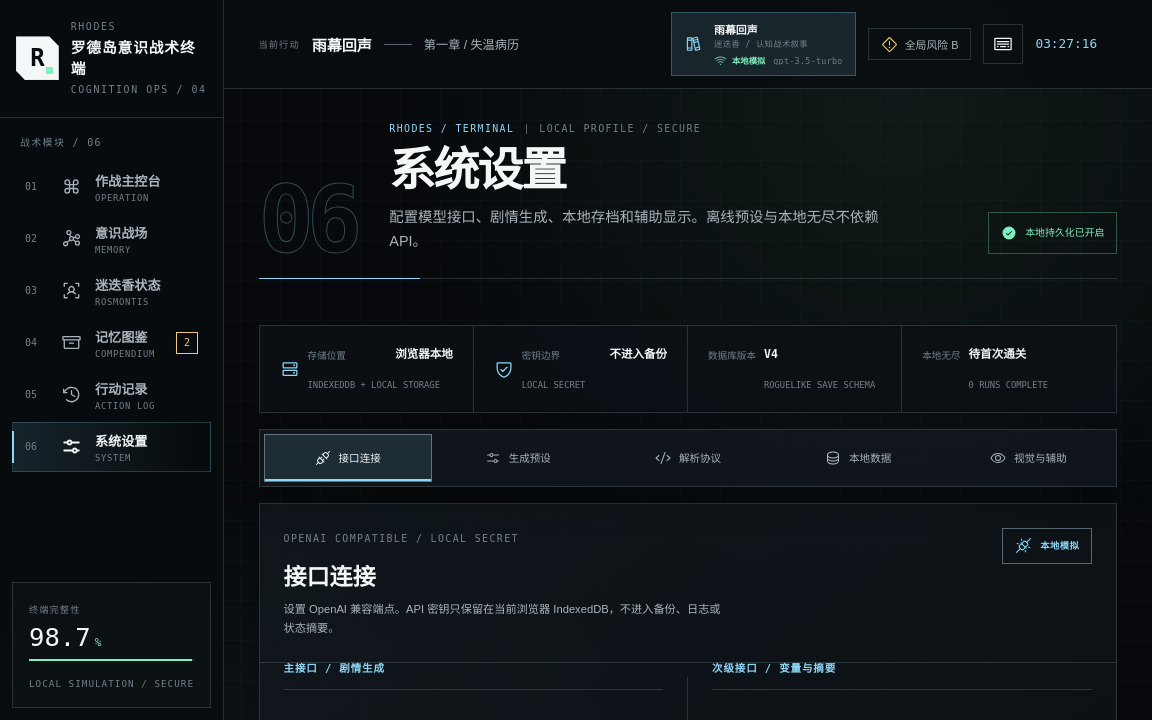
Scenario: 设置预设页与酒馆编排同时打开时仍保持全局唯一 ID
The image size is (1152, 720).
Click the tab "生成预设".
click(518, 458)  # box left=434, top=434, right=602, bottom=482
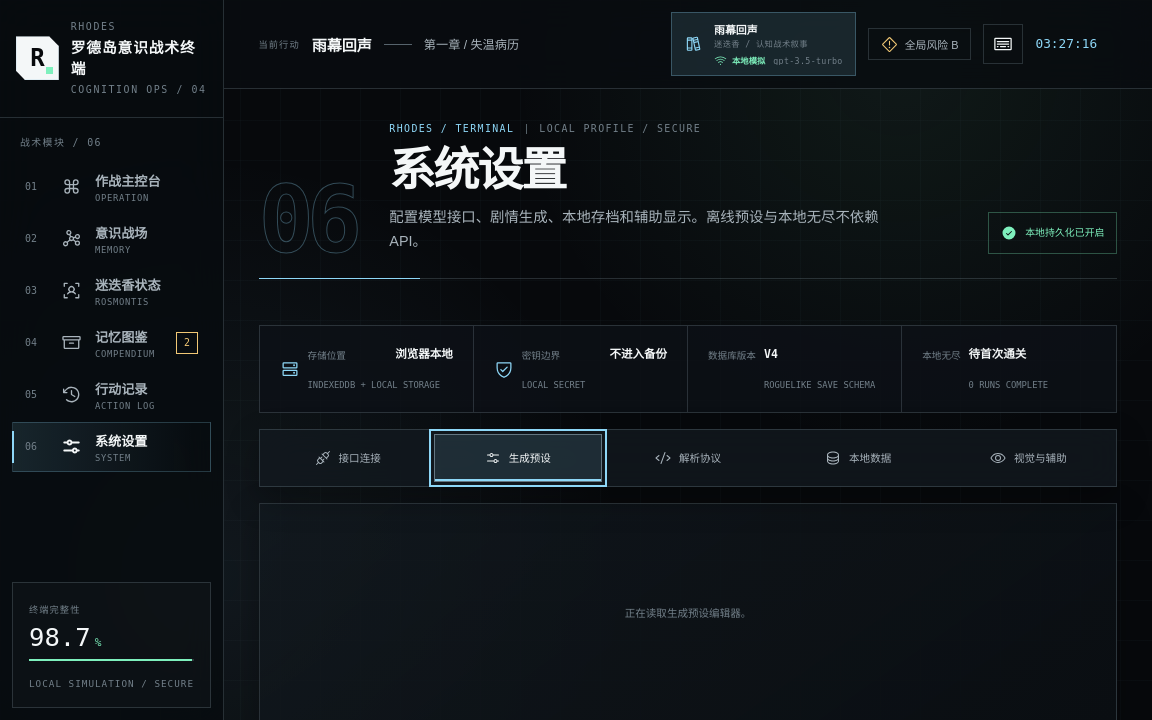
Click the button with aria-label "打开酒馆编排".
click(763, 44)  # box left=671, top=12, right=856, bottom=76
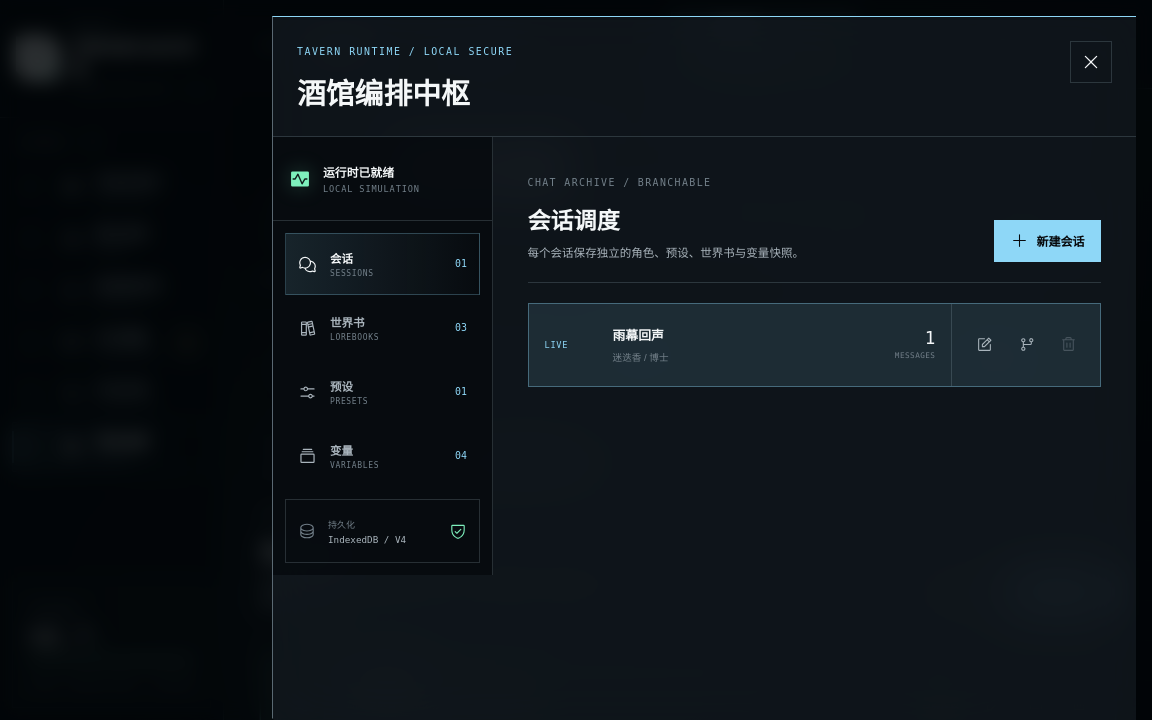
Click the tab "预设 PRESETS 01".
click(382, 392)  # box left=285, top=361, right=480, bottom=423
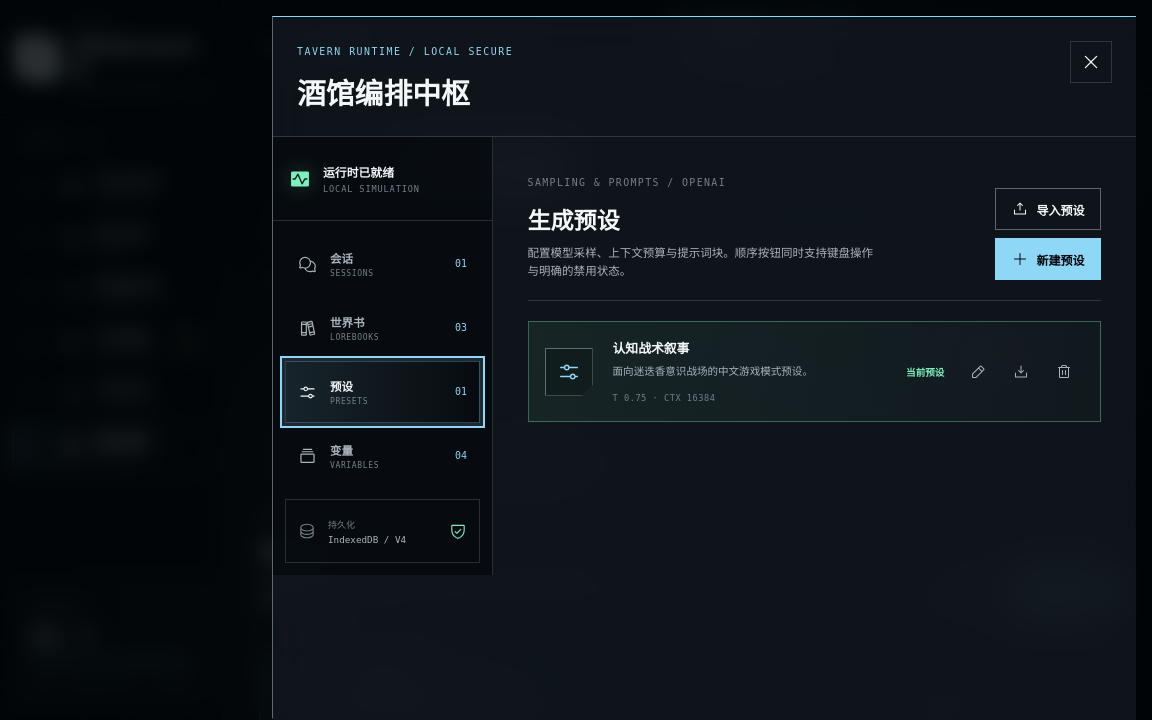
Check: the file field labelled "导入预设" is shown, box left=995, top=188, right=1101, bottom=230
